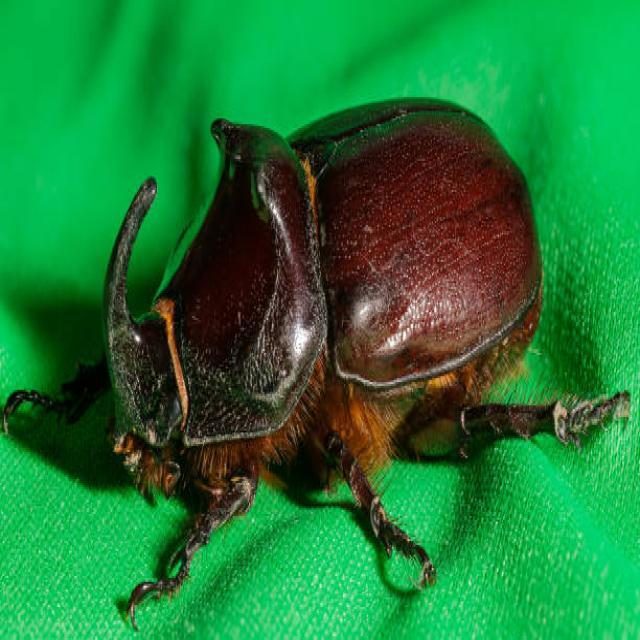Rhino-beetle: (76, 91, 573, 566)
